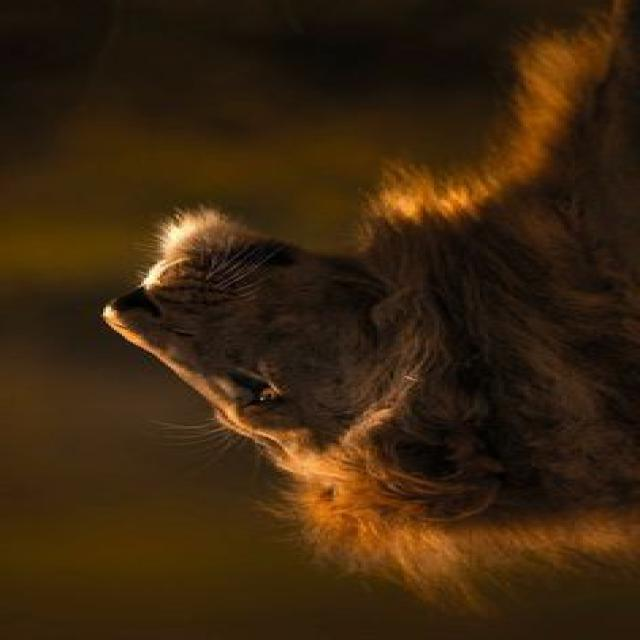lions: (0, 51, 640, 615)
